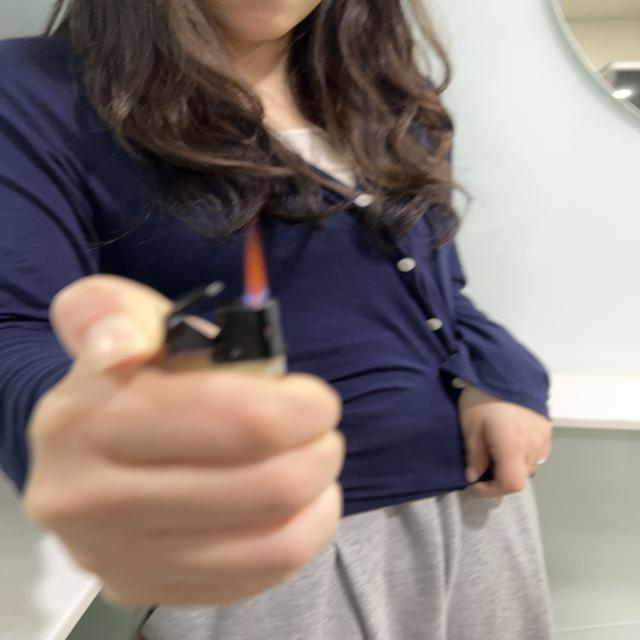fire: (240, 219, 273, 311)
